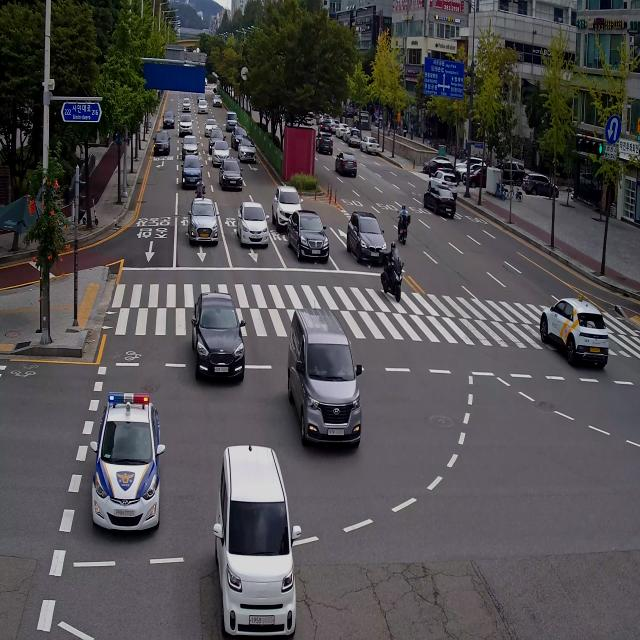Car: (204, 430, 314, 640), (274, 285, 378, 471), (79, 355, 170, 542), (173, 269, 258, 397), (527, 284, 616, 388), (284, 198, 338, 280), (337, 196, 392, 272), (184, 190, 232, 262), (230, 188, 276, 256), (418, 162, 458, 228), (331, 144, 358, 181), (215, 157, 244, 191), (149, 125, 172, 160), (178, 155, 202, 185), (316, 126, 335, 155), (207, 126, 223, 154), (223, 106, 237, 136), (159, 104, 173, 132), (182, 131, 197, 157), (239, 140, 257, 161), (213, 138, 229, 161), (230, 128, 248, 148), (179, 113, 193, 134), (202, 118, 216, 134), (198, 98, 208, 116), (183, 96, 192, 115)
Motorcycle: (376, 239, 412, 307), (397, 195, 416, 252), (192, 174, 206, 197)
